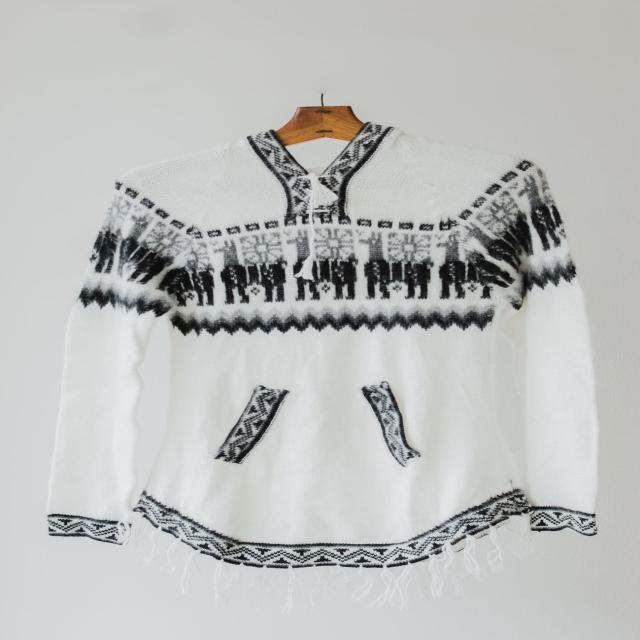Chompa: (46, 96, 601, 572)
